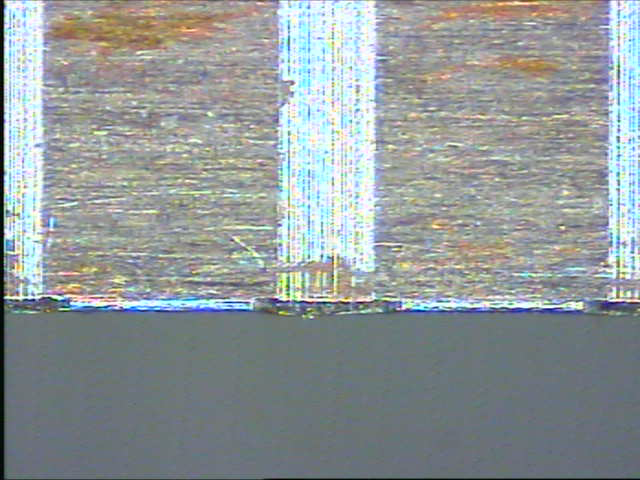line: (272, 2, 381, 306)
